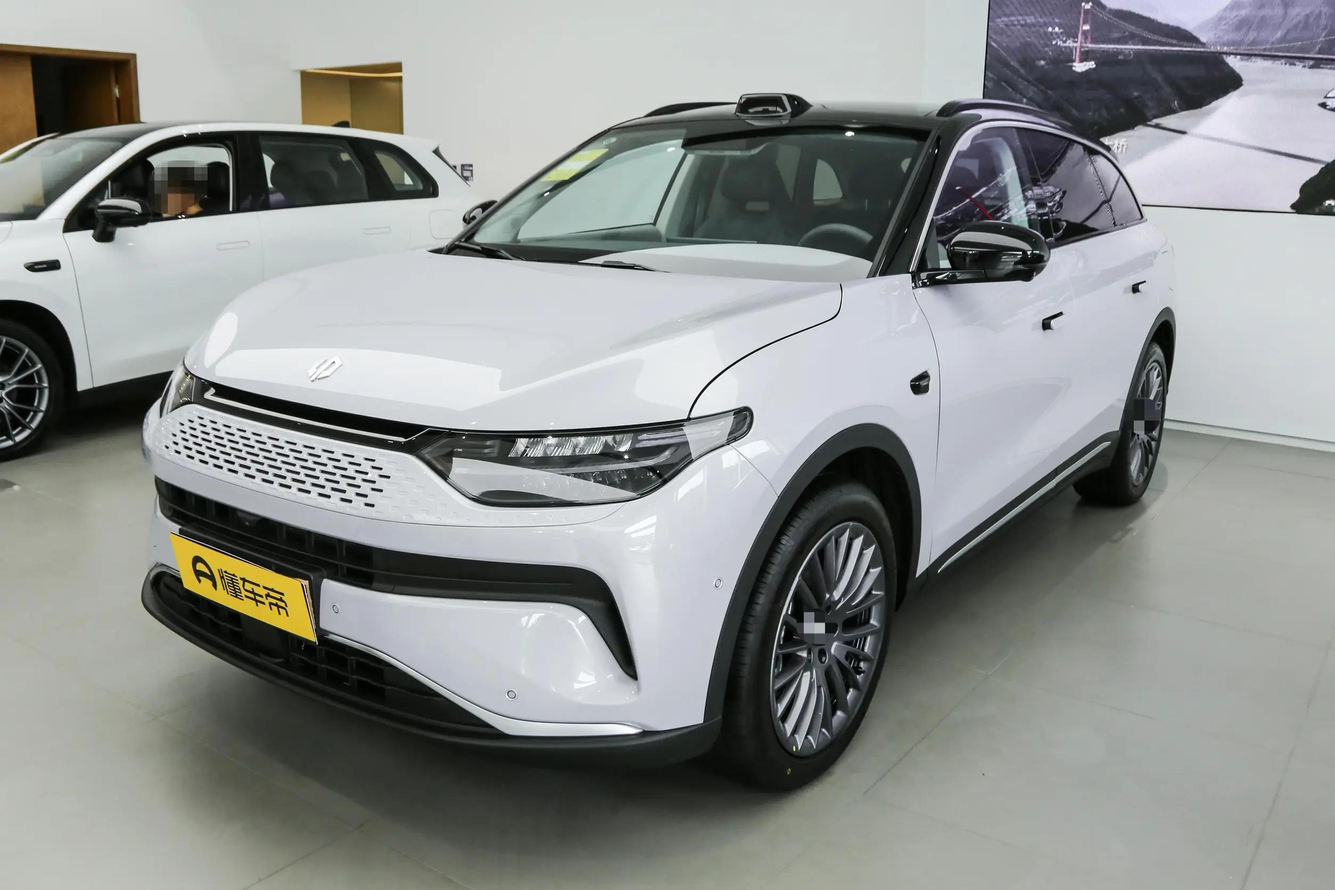LEAPMOTOR: (306, 356, 344, 383)
